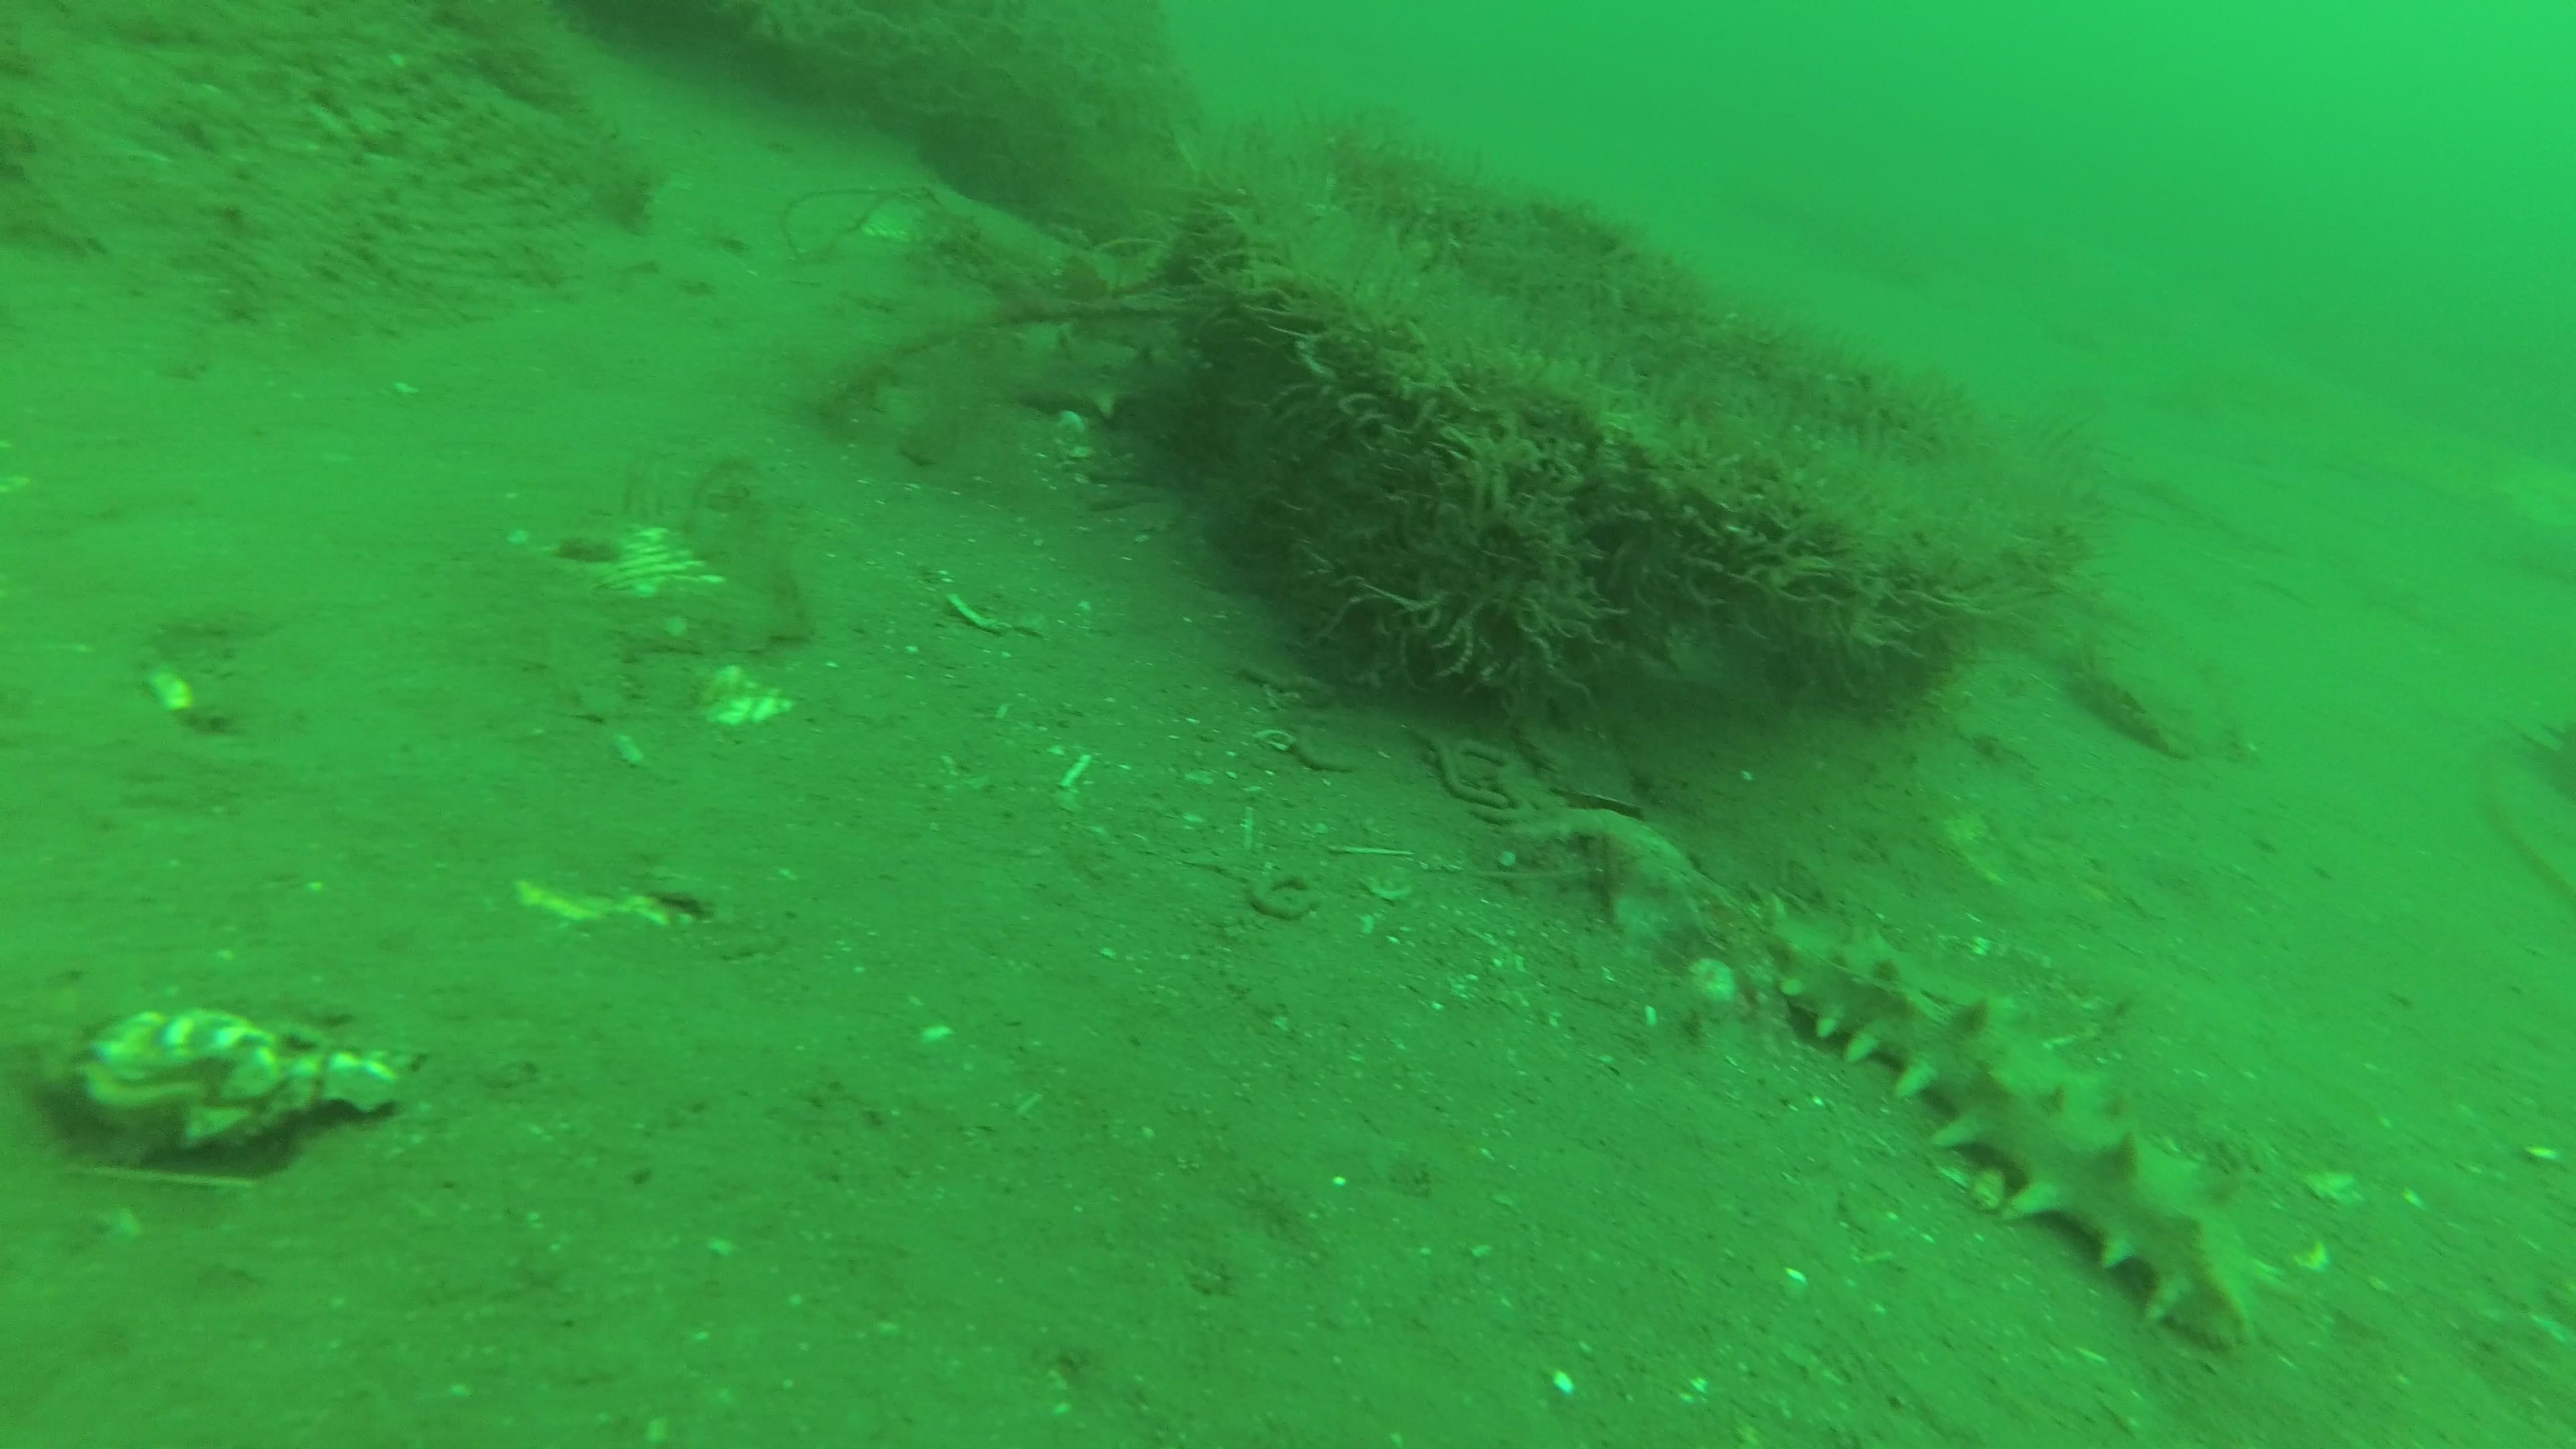holothurian: (1775, 888, 2265, 1366)
